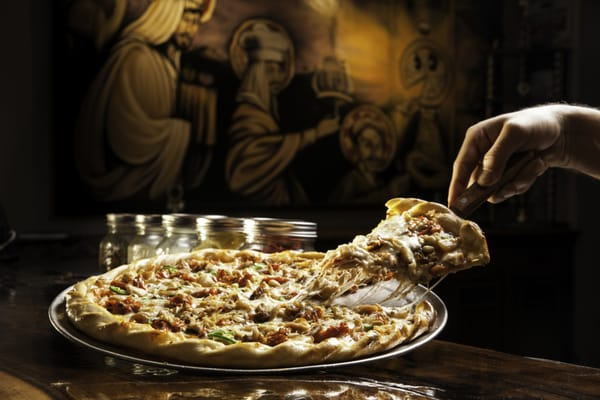burger: (97, 213, 129, 272)
curry: (0, 212, 516, 396)
sandwich: (63, 197, 484, 367), (362, 196, 491, 290)
